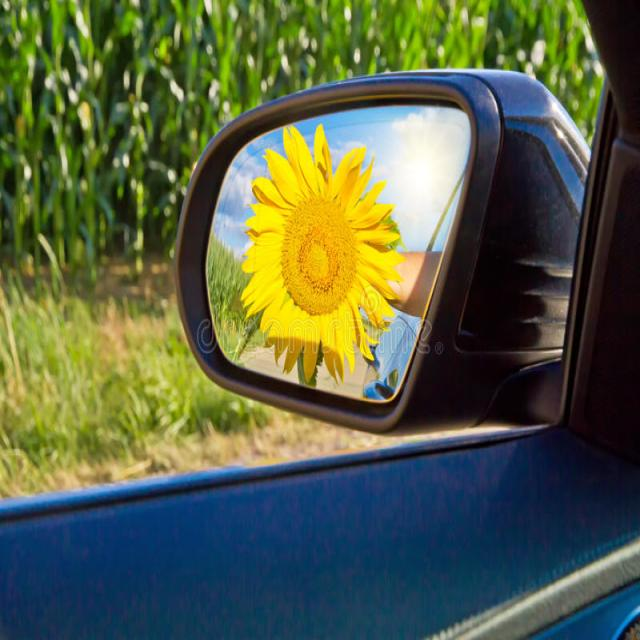sunflower: (233, 127, 410, 375)
